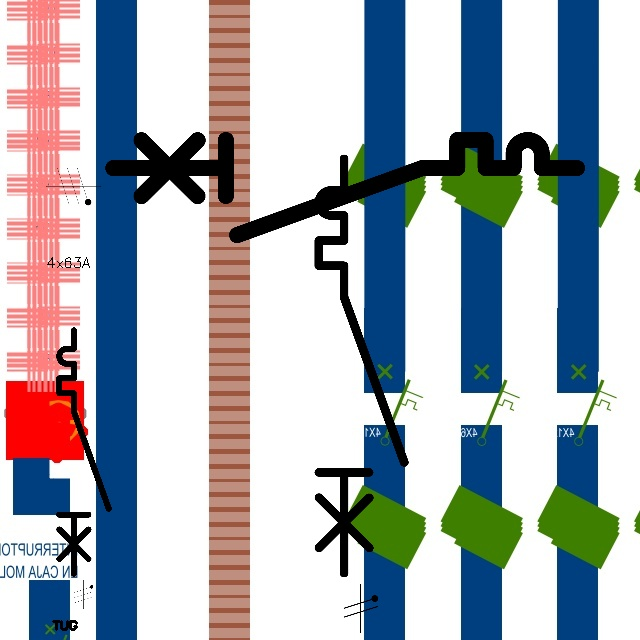interruptor_termomagnetico: (101, 128, 589, 247), (308, 148, 414, 584), (53, 324, 115, 580)
